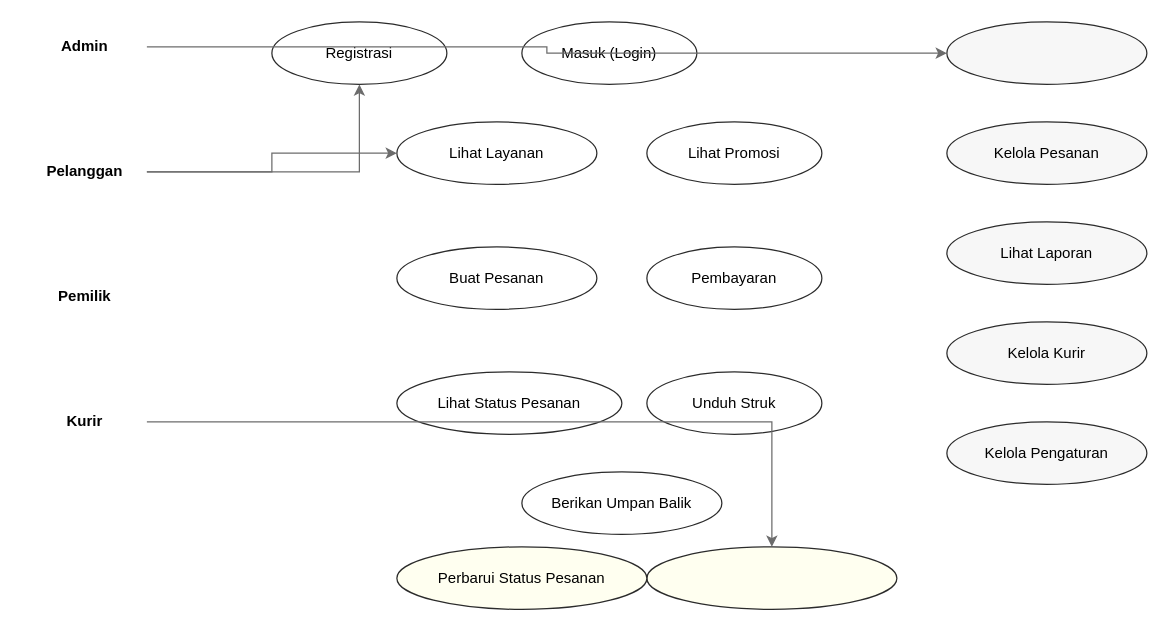
Some shapes in this 1169 by 631 pixel diagram are drawn without their labels. The box of each missing label's shape, as (x1, y1, x2, y2) in pixels:
Kelola Layanan: (946, 21, 1147, 84)
Lihat Pesanan Ditugaskan: (646, 546, 897, 609)
